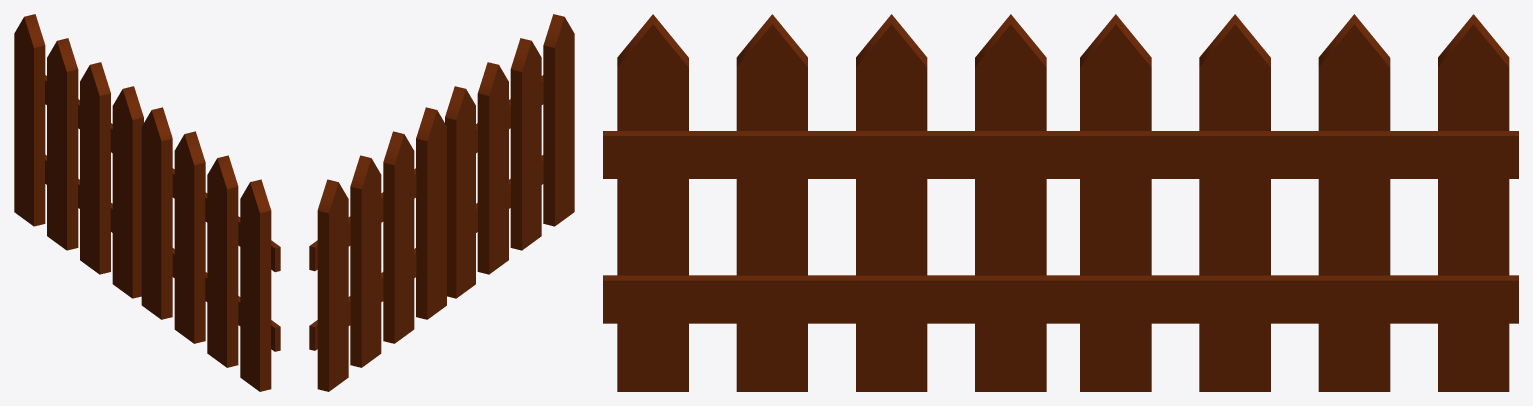
Rendered from WallX4.FBX.
3 renders of one model, left to right at view 1: azimuth 30°, elevation 25°; view 2: azimuth 150°, elevation 25°; view 3: azimuth 270°, elevation 25°, orthographic. The views are drawn at different scales.
Parts seen in each view (by area): view 1: Body; view 2: Body; view 3: Body.
Boxes of the visible parts, bbox=[...] form: Body: bbox=[14, 14, 280, 391]; Body: bbox=[309, 14, 574, 391]; Body: bbox=[603, 14, 1518, 391].
Size of the model in its own units: 0.1479 by 1.7 by 3.84.
